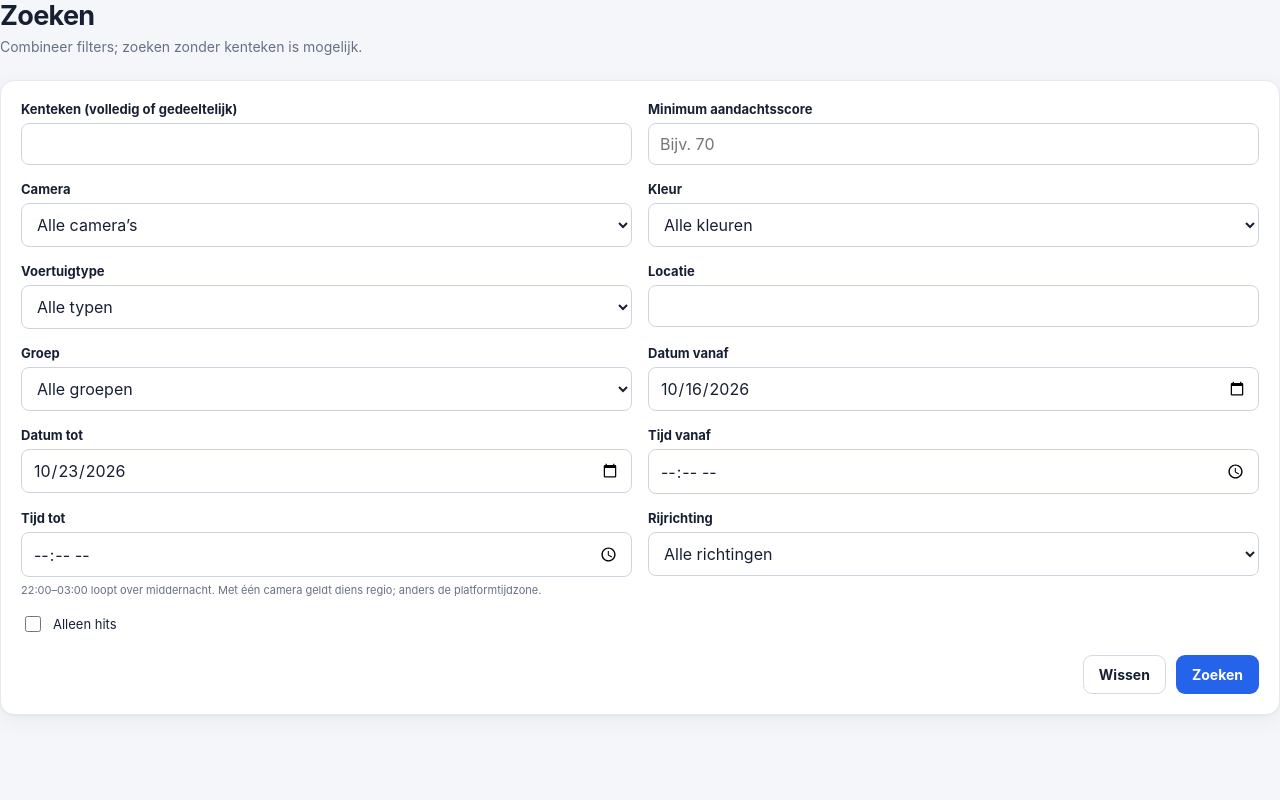
Scenario: direction across passage views › shows stored UNKNOWN consistently
Select "Onbekend" in the dropdown named "Alle richtingen" below "Rijrichting": (954, 554) [648,532,1259,576]
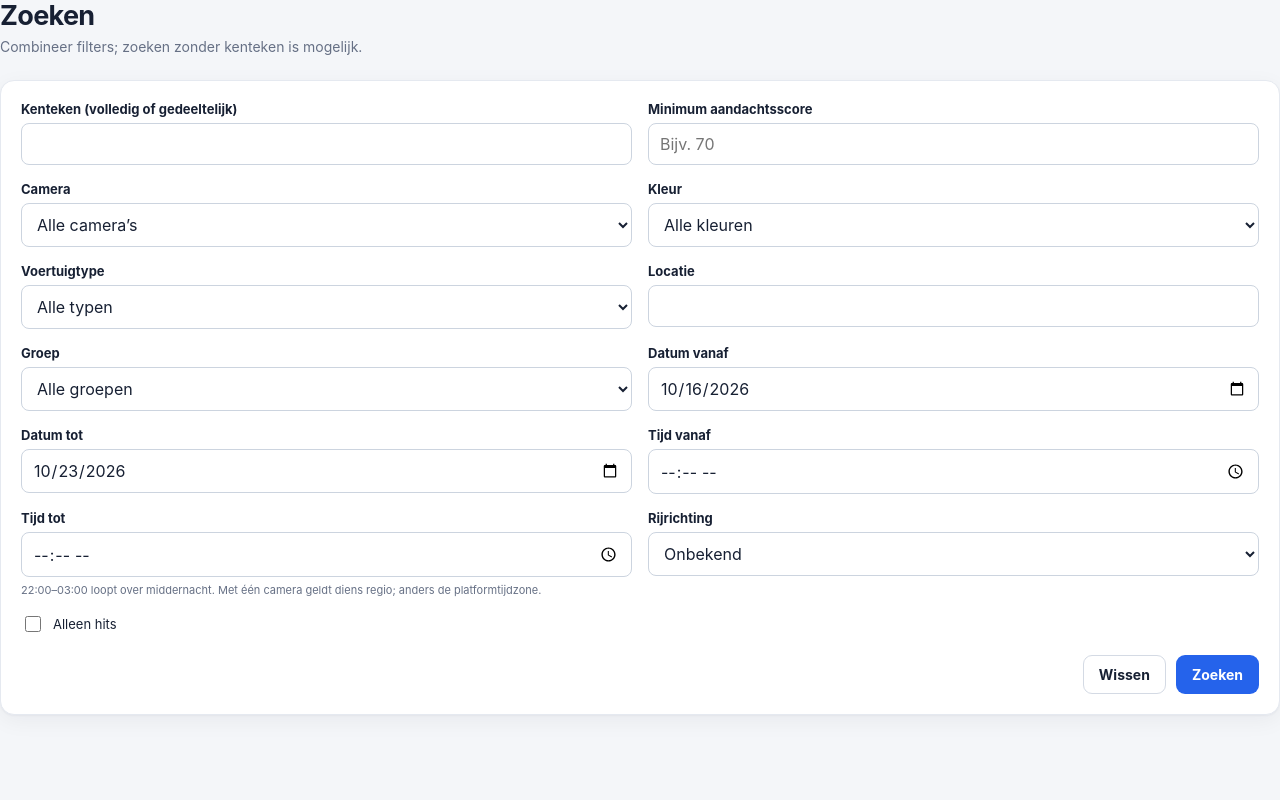
Click the button "Zoeken": (1217, 674) [1176,655,1259,694]
(page scrolled)
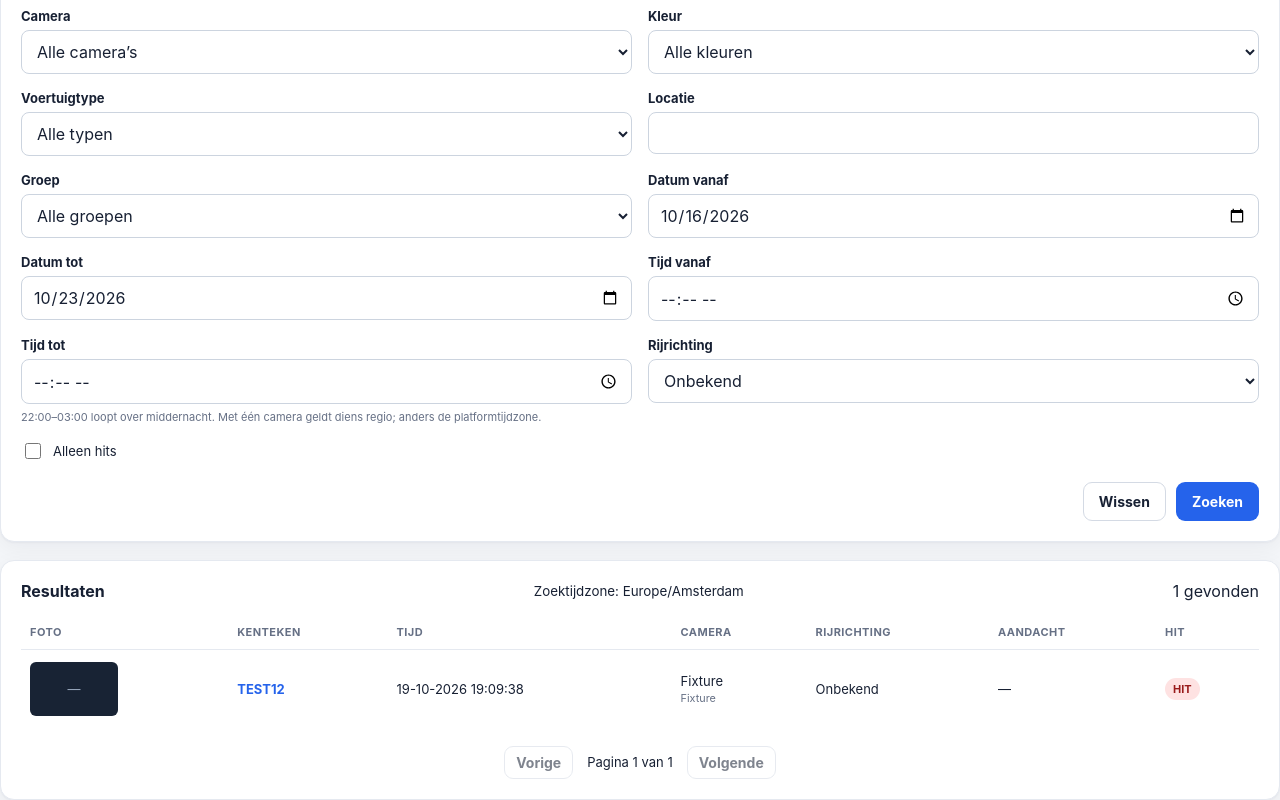
Now the text "TEST12" is shown, box [237,681,285,697]
Now the cell "Onbekend" is shown, box [807,650,989,728]
